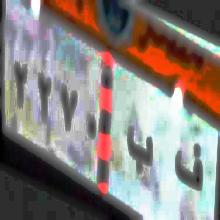0: (84, 107, 98, 142)
2: (11, 53, 29, 108), (36, 66, 53, 124)
7: (59, 81, 76, 135)
baa: (122, 122, 154, 183)
faa: (172, 136, 205, 198)
